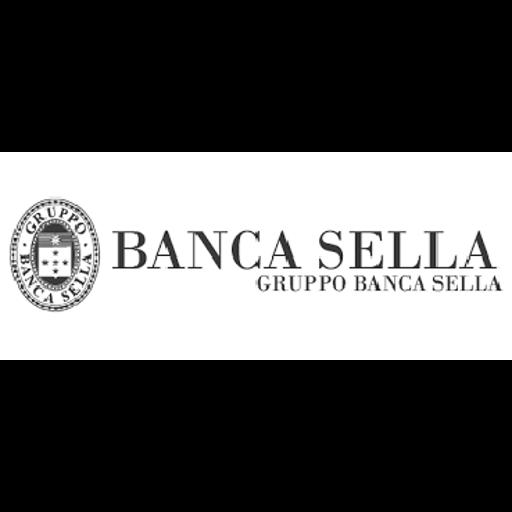Banca Sella: (0, 152, 512, 360)
